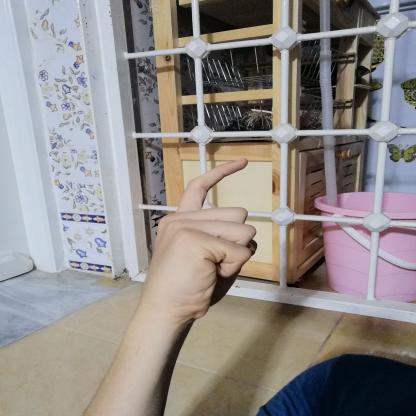RAA: (126, 145, 269, 334)
